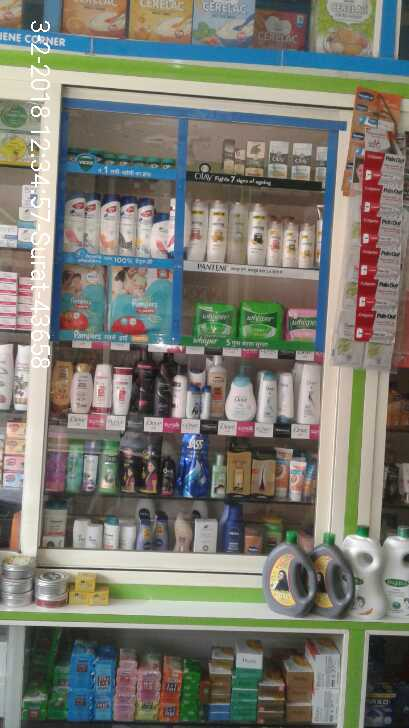beauty: (97, 192, 121, 253), (116, 196, 138, 256), (63, 190, 84, 249), (82, 191, 99, 250), (139, 196, 155, 252)
pharmacy: (110, 258, 172, 326), (54, 266, 101, 334), (238, 303, 284, 337), (195, 302, 236, 338)
